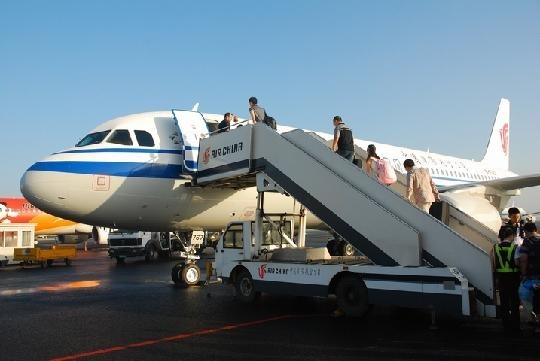airplane: (20, 99, 536, 235)
